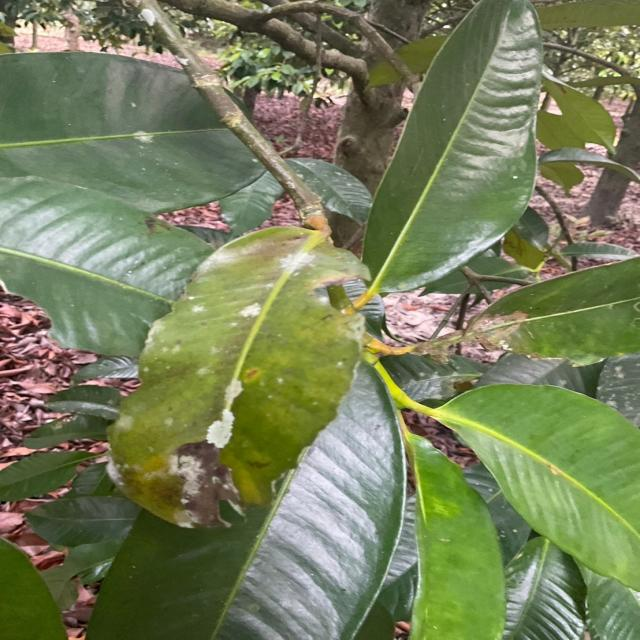Leaf Spot: (260, 248, 344, 280), (194, 240, 242, 278), (235, 292, 268, 321), (184, 302, 207, 319)
